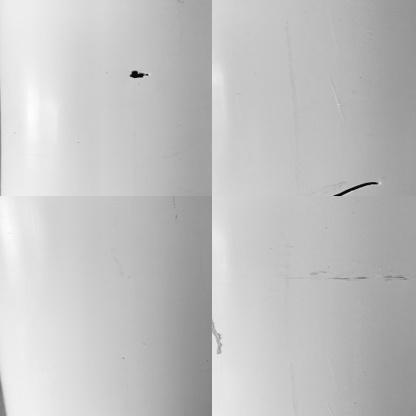fengxi: (324, 175, 382, 199)
kongdong: (130, 67, 152, 81)
sunshang: (210, 320, 225, 358)
